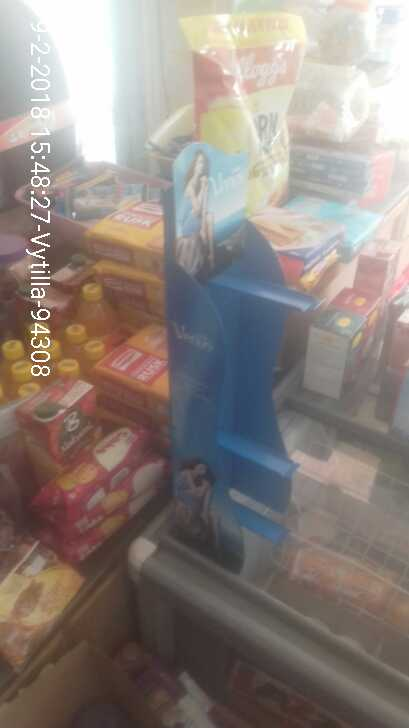reject: (123, 202, 233, 294)
